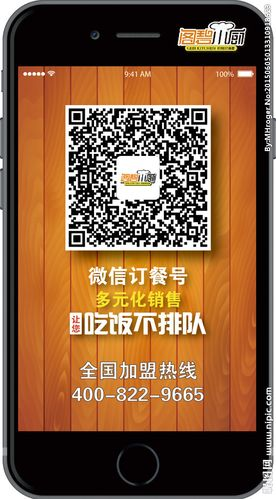QRCode: (65, 104, 210, 249)
